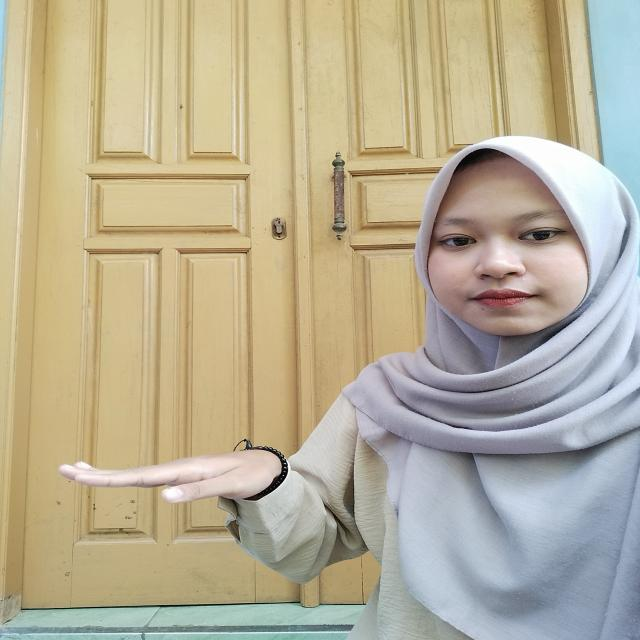adik: (19, 432, 297, 520)
